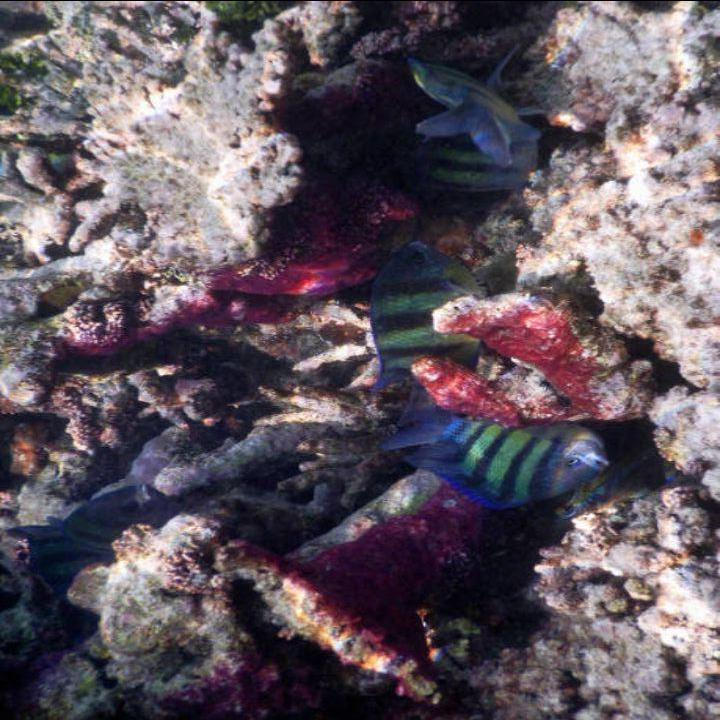Dead Coral: (51, 32, 311, 682)
